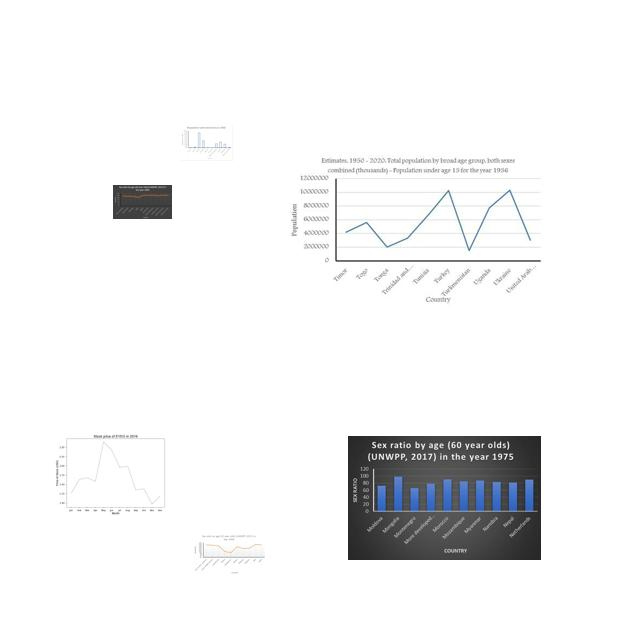Graph: (290, 155, 544, 306), (348, 436, 541, 560), (49, 428, 179, 517), (194, 533, 266, 574), (113, 185, 172, 219), (180, 125, 233, 161)
